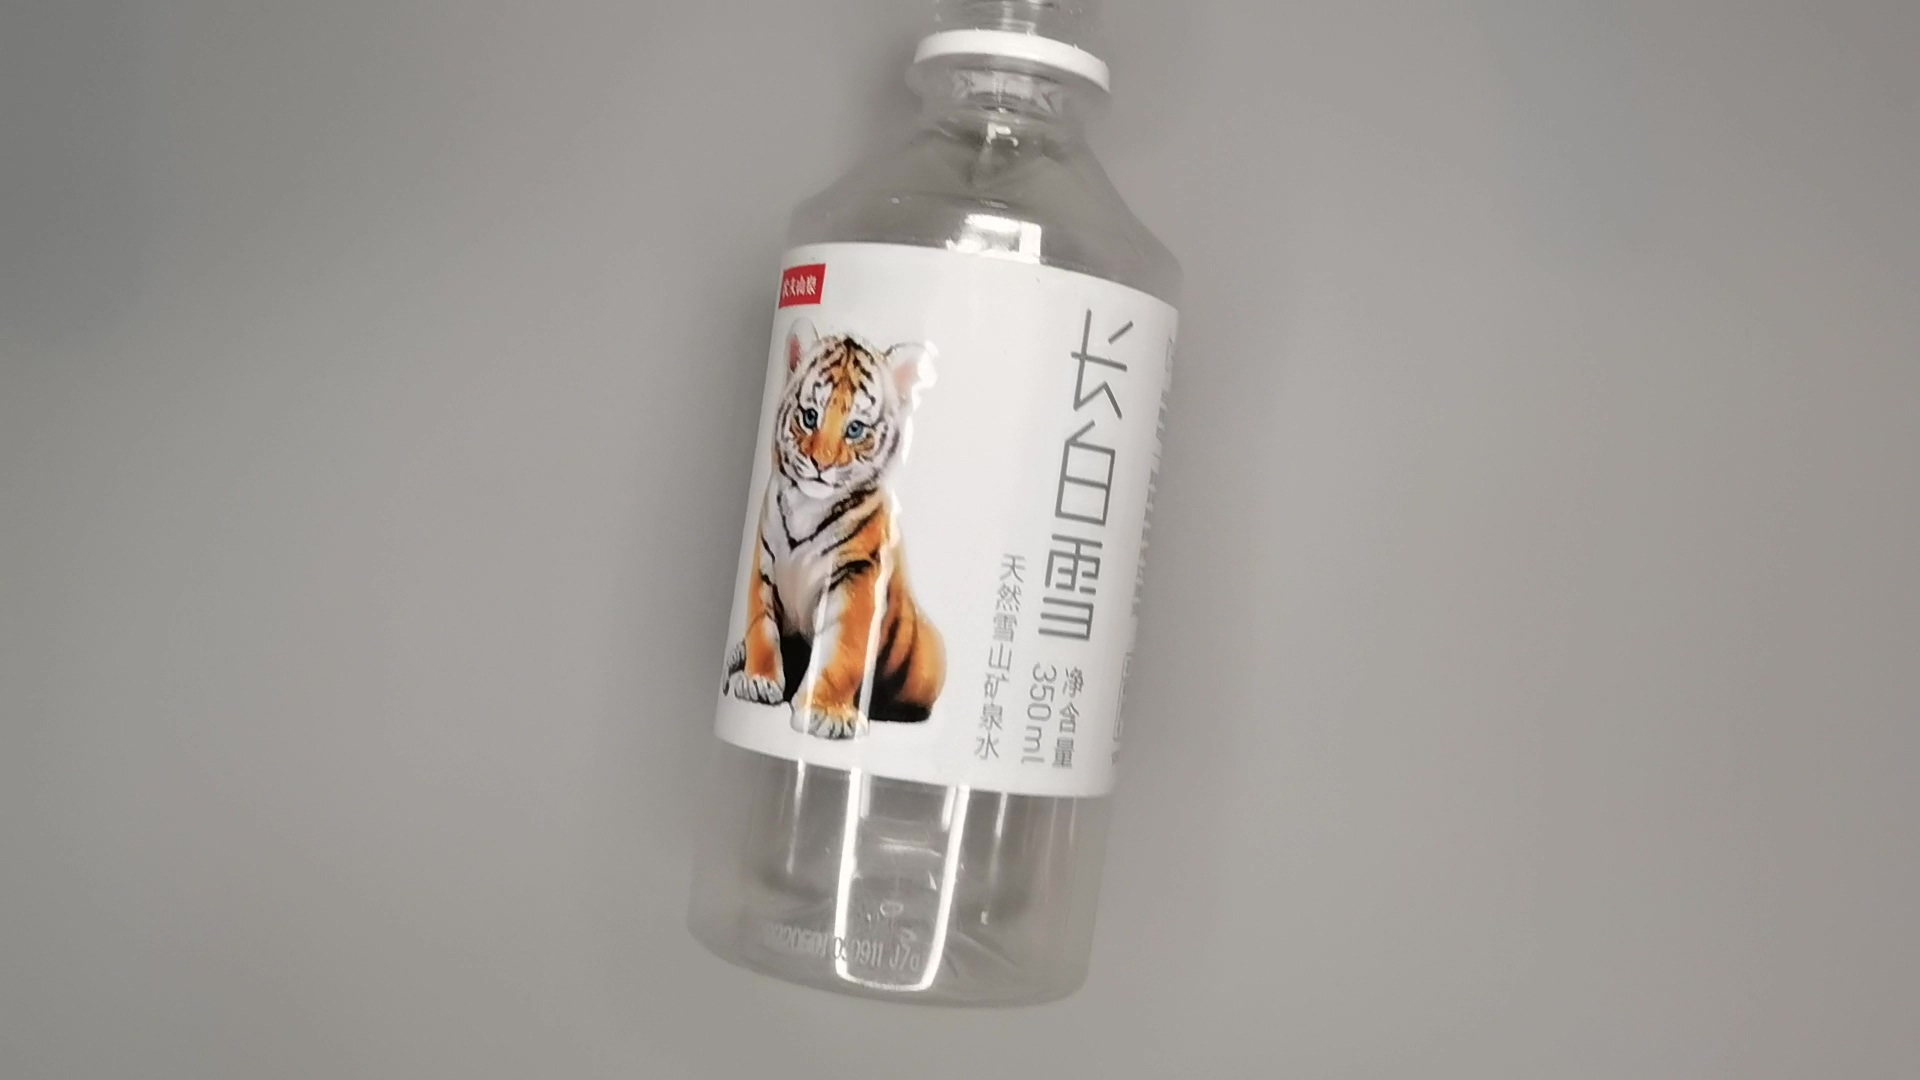bottle: (680, 1, 1201, 1015)
